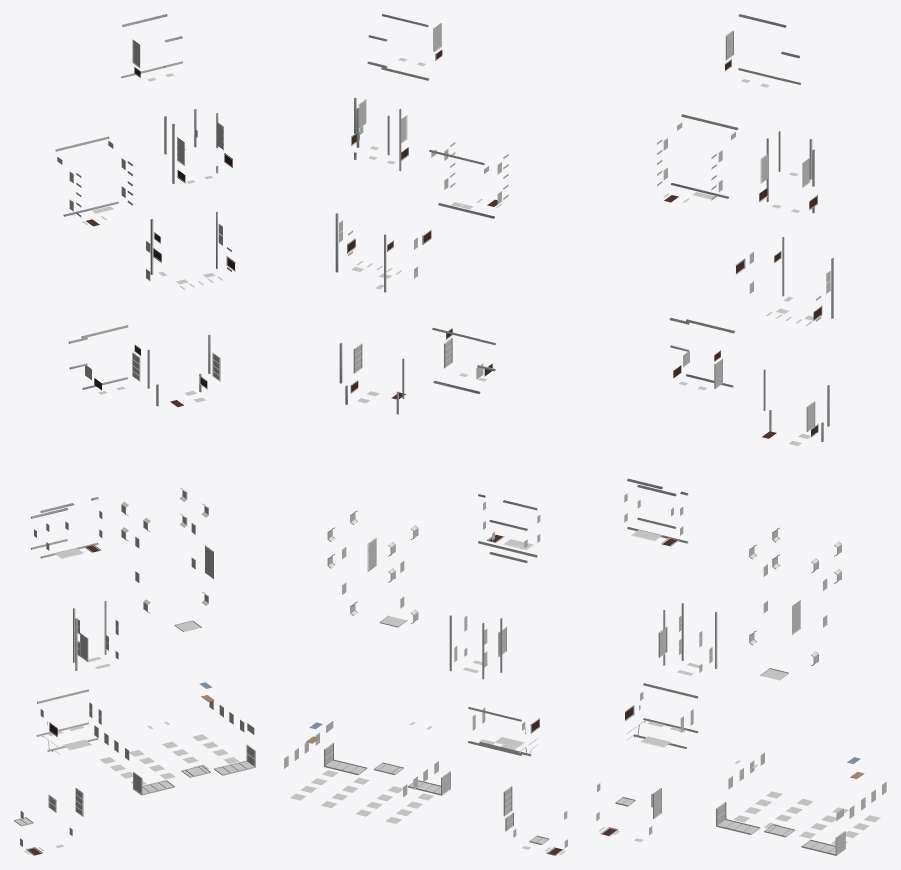
3 renders of one model, left to right at view 1: azimuth 30°, elevation 25°; view 2: azimuth 150°, elevation 25°; view 3: azimuth 330°, elevation 25°, orthographic. The views are drawn at different scales.
Visible parts, largest first — view 1: SM_000283.001; view 2: SM_000283.001; view 3: SM_000283.001.
Part boxes in pixels (bbox=[...]): SM_000283.001: bbox=[14, 14, 255, 855]; SM_000283.001: bbox=[284, 14, 567, 855]; SM_000283.001: bbox=[596, 14, 886, 855].
Size of the model in its own units: 35.04 by 115 by 12.98.
